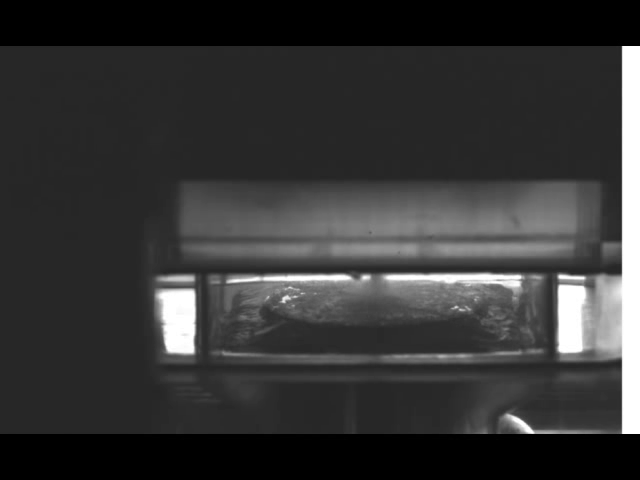Zona de teste: (265, 279, 487, 327)
